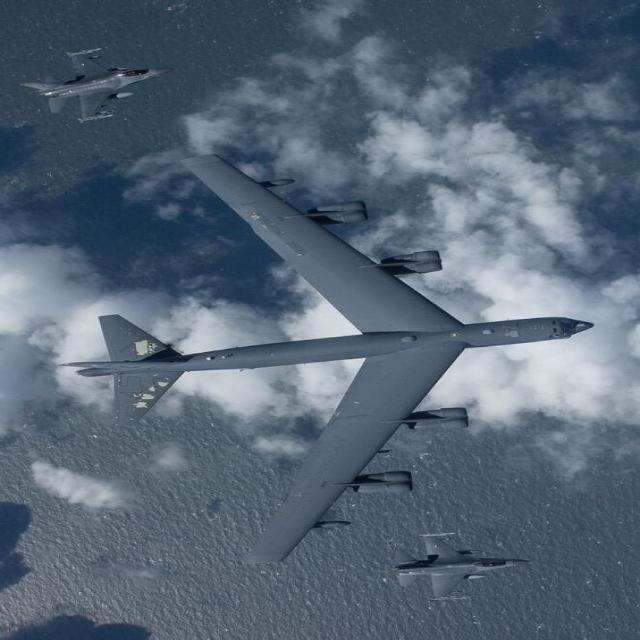MIL_Plane: (65, 164, 585, 554), (18, 46, 176, 124), (388, 531, 532, 601)
